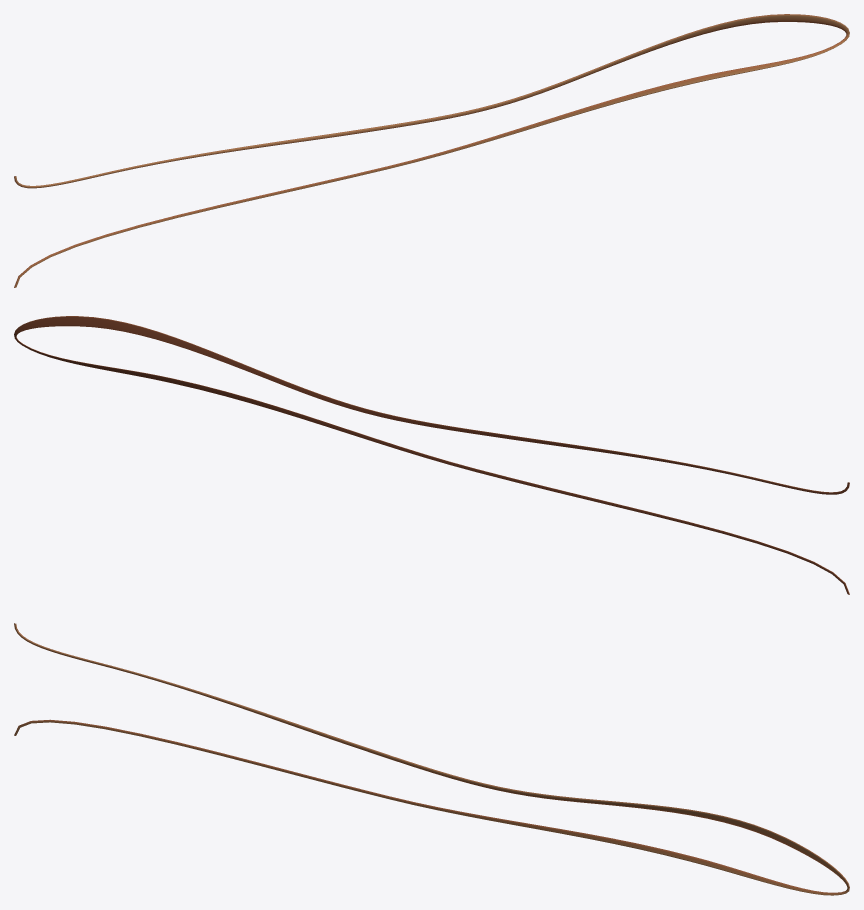
File: splice-aperture.glb
The picture shows the model from 3 angles, top to bottom: view 1: azimuth 30°, elevation 25°; view 2: azimuth 150°, elevation 25°; view 3: azimuth 330°, elevation 25°; orthographic projection.
Parts seen in each view (by area): view 1: SpliceTape; view 2: SpliceTape; view 3: SpliceTape.
Part boxes in pixels (x1,y1,x2,y2): SpliceTape: (14, 14, 849, 287); SpliceTape: (14, 316, 849, 594); SpliceTape: (14, 623, 849, 895).
Size of the model in its own units: 11.32 by 1.44 by 0.1079.
